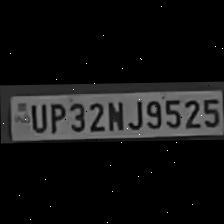2: (84, 99, 104, 132), (180, 96, 200, 129)
3: (65, 99, 85, 130)
5: (161, 96, 181, 128), (200, 96, 220, 128)
9: (141, 97, 161, 130)
J: (125, 96, 143, 130)
N: (104, 97, 124, 131)
P: (45, 100, 65, 132)
U: (27, 102, 46, 134)
